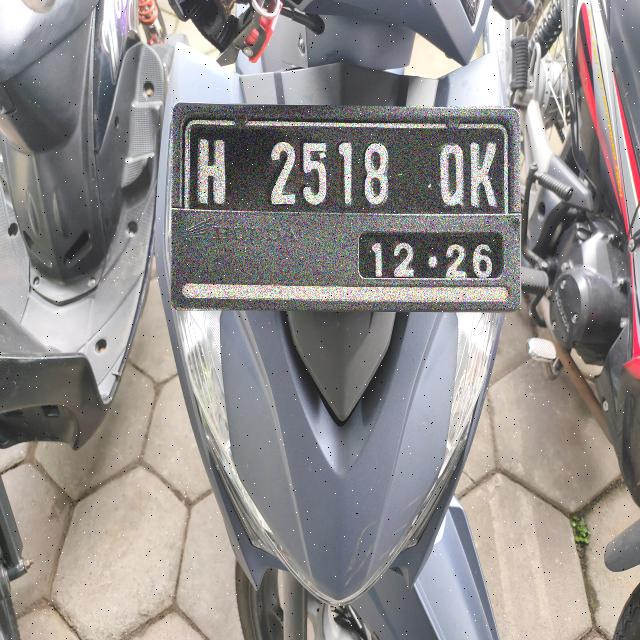plate: (171, 107, 519, 309)
